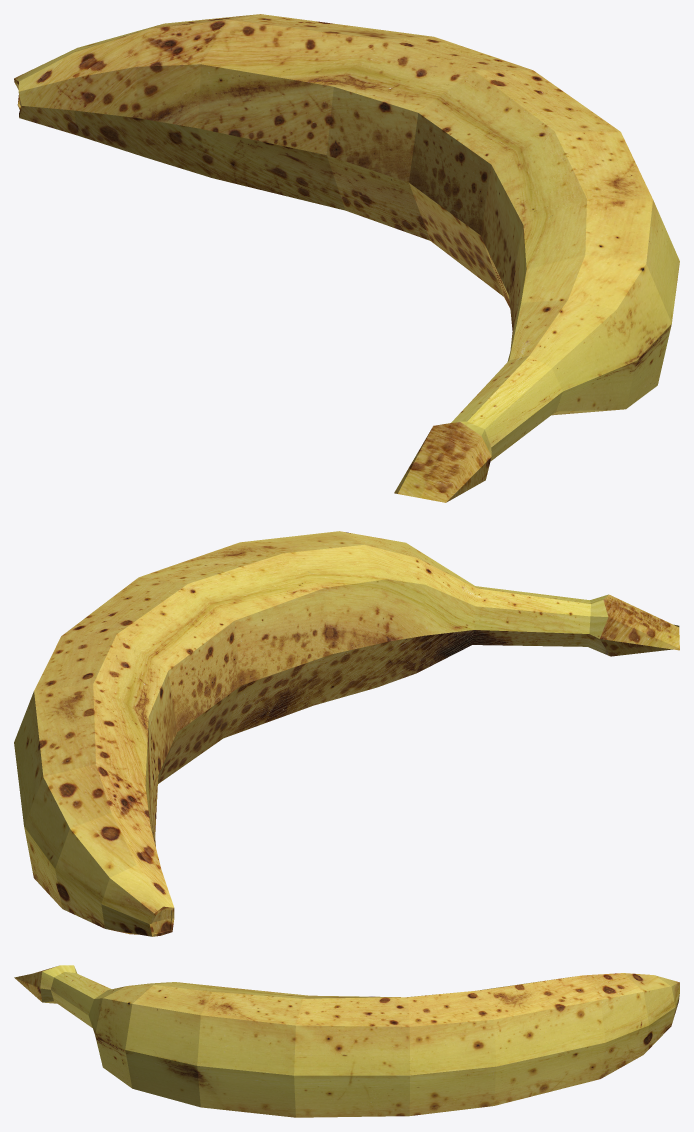
File: banana.obj
3 views of the same model, one above another, from view 1: azimuth 30°, elevation 25°; view 2: azimuth 150°, elevation 25°; view 3: azimuth 270°, elevation 25° (orthographic). The views are drawn at different scales.
Visible parts, largest first — view 1: Banana_Cylinder; view 2: Banana_Cylinder; view 3: Banana_Cylinder.
Boxes of the visible parts, x1,y1,x2,y2 form: Banana_Cylinder: [14, 14, 679, 502]; Banana_Cylinder: [14, 531, 679, 936]; Banana_Cylinder: [14, 965, 679, 1117].
Size of the model in its own units: 0.1554 by 0.0596 by 0.3127.
Materials: 1 (1 with a texture image).
